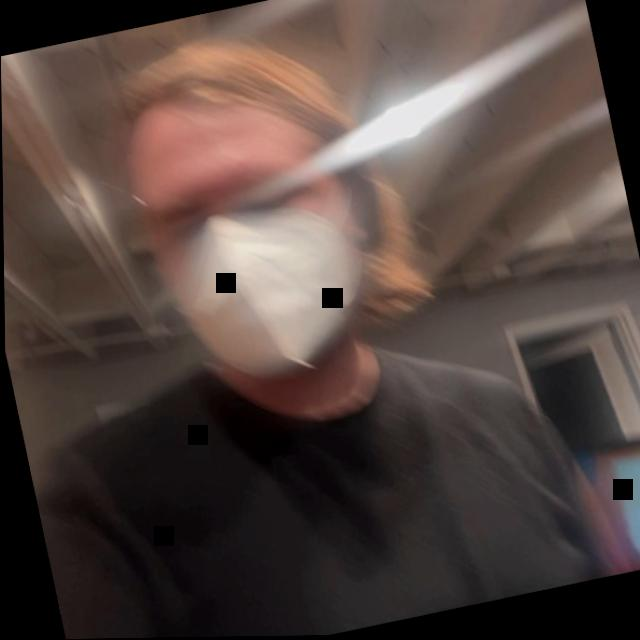Mask: (96, 1, 445, 397)
